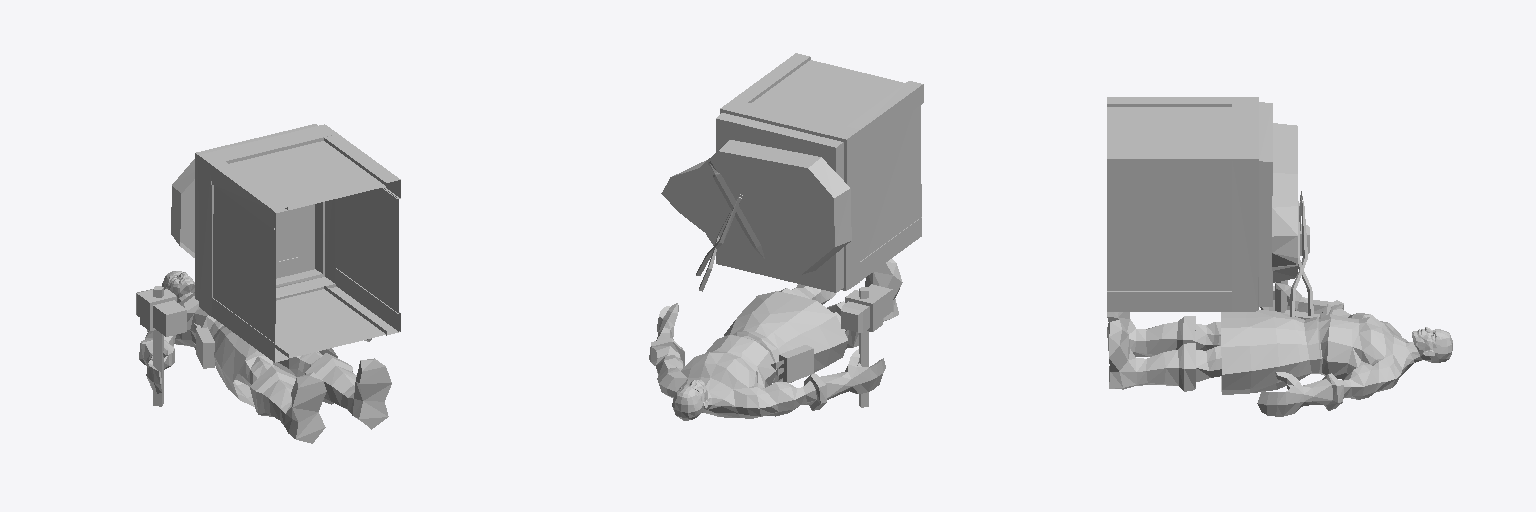
Rendered from 男npc5.obj.
3 views of the same model, side by side, from view 1: azimuth 30°, elevation 25°; view 2: azimuth 150°, elevation 25°; view 3: azimuth 270°, elevation 25° (orthographic).
Visible parts, largest first — view 1: object4, object2, object6, object3; view 2: object2, object3, object6, object4, object5; view 3: object2, object4, object6, object3, object5.
Boxes of the visible parts, <box> form: object4: <box>213,141,398,361</box>; object2: <box>136,271,391,443</box>; object6: <box>195,124,400,362</box>; object3: <box>171,159,314,261</box>; object2: <box>649,259,902,420</box>; object3: <box>661,140,851,274</box>; object6: <box>716,53,923,292</box>; object4: <box>752,60,921,260</box>; object5: <box>696,161,764,291</box>; object2: <box>1107,224,1452,416</box>; object4: <box>1107,107,1231,290</box>; object6: <box>1107,97,1272,311</box>; object3: <box>1272,123,1297,282</box>; object5: <box>1290,191,1313,316</box>.
Bounding box in the file's own units: 1.29 × 1.4 × 1.75.